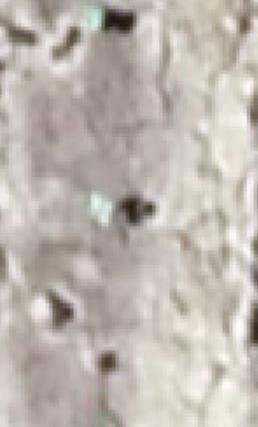cotton: (94, 193, 114, 222), (84, 8, 101, 30)
